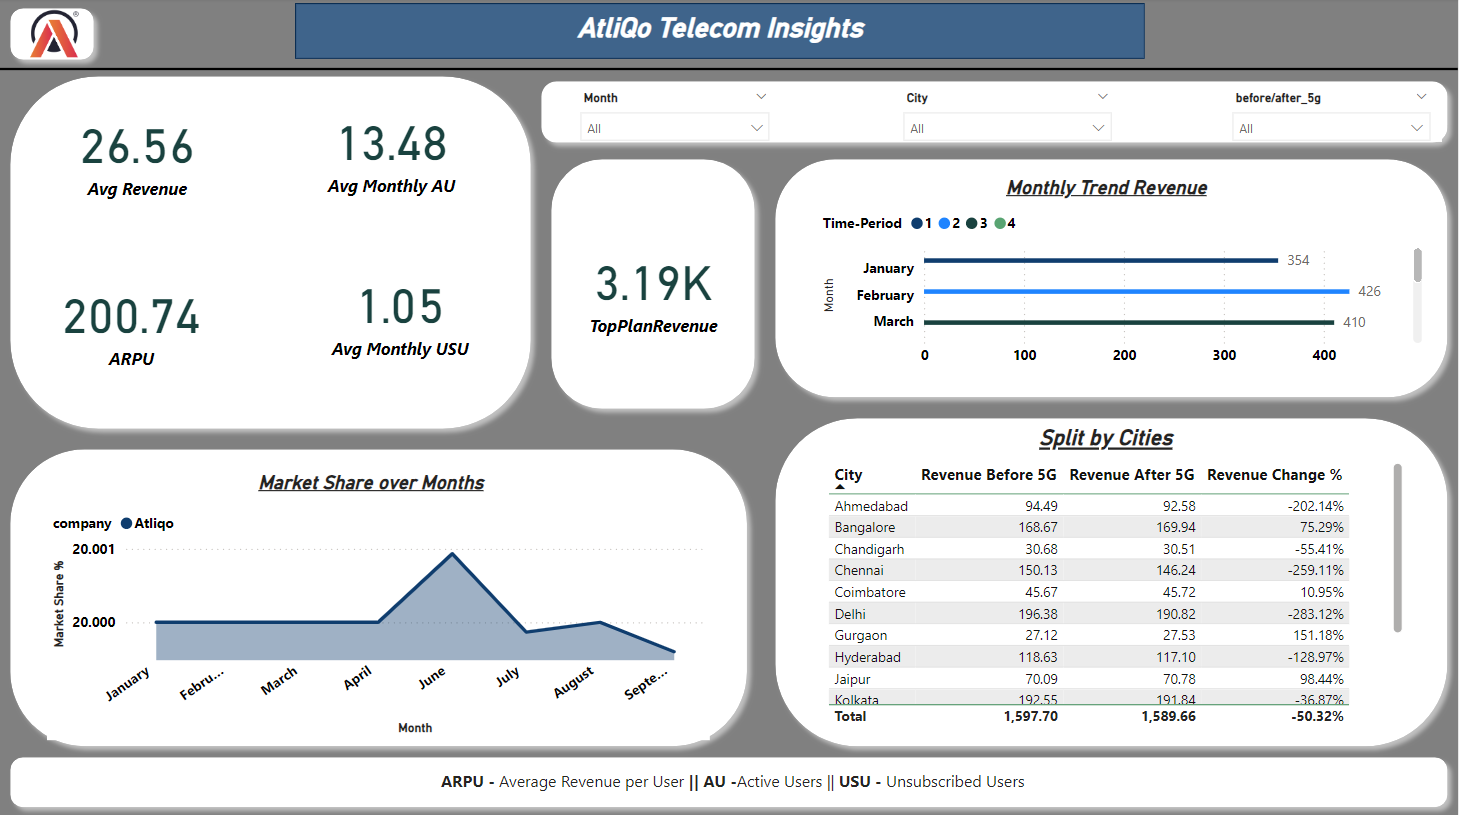

The page's visual inventory and layout, read from the dashboard file:
{"tool":"powerbi","page":{"name":"Page 1","canvas":[1280,720],"ordinal":0},"visuals":[{"type":"shape","box":[0,56.2,1280.2,12.3],"z":0},{"type":"shape","box":[259,4.4,746.3,49.2],"z":1000},{"type":"textbox","box":[324,7,616.4,43],"z":2000},{"type":"shape","box":[0,0,91.3,63.2],"z":3000},{"type":"image","box":[21.1,2.6,53.6,58],"z":4000},{"type":"shape","box":[466.2,63.8,813.8,72],"z":5000},{"type":"slicer","fields":{"Values":["dim_date.before/after_5g"]},"box":[1072.2,76,193.6,49.7],"z":6000},{"type":"slicer","fields":{"Values":["dim_cities.city_name"]},"box":[783.4,76,202.7,49.7],"z":7000},{"type":"slicer","fields":{"Values":["dim_date.month_name"]},"box":[499.6,76,186.5,49.7],"z":8000},{"type":"shape","box":[0,59.7,475,327.5],"z":9000},{"type":"card","fields":{"Values":["Key-Metrics.Avg Revenue"]},"box":[62.8,86.1,114.5,99.3],"z":10000},{"type":"card","fields":{"Values":["Key-Metrics.Average Revenue Per User"]},"box":[41.6,242.2,148,85.1],"z":11000},{"type":"card","fields":{"Values":["Key-Metrics.Average of Monthly Active Users"]},"box":[274.6,85.1,137.8,95.3],"z":12000},{"type":"card","fields":{"Values":["Key-Metrics.Average of Monthly Unsubscribed Users"]},"box":[274.6,225,153,102.4],"z":13000},{"type":"shape","box":[671.9,359.8,608.1,306.1],"z":14000},{"type":"tableEx","fields":{"Values":["dim_cities.city_name","Key-Metrics.Revenue Before 5G","Key-Metrics.Revenue After 5G","Key-Metrics.Revenue Change %"]},"box":[721.6,403.4,514.8,241.2],"z":15000},{"type":"textbox","box":[870.6,369.9,201.7,33.4],"z":16000},{"type":"shape","box":[671.9,132.8,608.1,227],"z":17000},{"type":"clusteredBarChart","title":"Monthly ","fields":{"Category":["dim_date.date.Variation.Date Hierarchy.Month"],"Series":["dim_date.time_period"],"Y":["Key-Metrics.Total Revenue"]},"box":[717.4,178.2,536.5,153.7],"z":18000},{"type":"textbox","box":[788.5,151,365.9,34.5],"z":19000},{"type":"shape","box":[0,387.1,664.8,278.7],"z":20000},{"type":"stackedAreaChart","fields":{"Category":["dim_date.date.Variation.Date Hierarchy.Month"],"Series":["fact_atliqo_metrics.company"],"Y":["Key-Metrics.Market Share %"]},"box":[41.6,441.9,581.7,209.8],"z":21000},{"type":"textbox","box":[152,410.5,347.6,31.4],"z":22000},{"type":"shape","box":[0,657.7,1280,61.8],"z":23000},{"type":"textbox","box":[21.3,672.9,1244.5,32.4],"z":24000},{"type":"shape","box":[475.3,132.8,196.6,237.1],"z":26000},{"type":"card","fields":{"Values":["Key-Metrics.TopPlanRevenue"]},"box":[497.6,180.4,152,152],"z":26500}]}

Visuals, with their boxes in screenshot pixels (x1, y1, x2, y2), scaled from the page's 1280x720 canvas onto the 1459x815 screenshot:
shape: [left=0, top=64, right=1458, bottom=78]
shape: [left=295, top=5, right=1146, bottom=61]
textbox: [left=369, top=8, right=1072, bottom=57]
shape: [left=0, top=0, right=104, bottom=72]
image: [left=24, top=3, right=85, bottom=69]
shape: [left=531, top=72, right=1458, bottom=154]
slicer - dim_date.before/after_5g: [left=1222, top=86, right=1443, bottom=142]
slicer - dim_cities.city_name: [left=893, top=86, right=1124, bottom=142]
slicer - dim_date.month_name: [left=569, top=86, right=782, bottom=142]
shape: [left=0, top=68, right=541, bottom=438]
card - Key-Metrics.Avg Revenue: [left=72, top=97, right=202, bottom=210]
card - Key-Metrics.Average Revenue Per User: [left=47, top=274, right=216, bottom=370]
card - Key-Metrics.Average of Monthly Active Users: [left=313, top=96, right=470, bottom=204]
card - Key-Metrics.Average of Monthly Unsubscribed Users: [left=313, top=255, right=487, bottom=371]
shape: [left=766, top=407, right=1458, bottom=754]
tableEx - dim_cities.city_name x Key-Metrics.Revenue Before 5G: [left=823, top=457, right=1409, bottom=730]
textbox: [left=992, top=419, right=1222, bottom=457]
shape: [left=766, top=150, right=1458, bottom=407]
"Monthly " clusteredBarChart: [left=818, top=202, right=1429, bottom=376]
textbox: [left=899, top=171, right=1316, bottom=210]
shape: [left=0, top=438, right=758, bottom=754]
stackedAreaChart - dim_date.date.Variation.Date Hierarchy.Month x fact_atliqo_metrics.company: [left=47, top=500, right=710, bottom=738]
textbox: [left=173, top=465, right=569, bottom=500]
shape: [left=0, top=744, right=1458, bottom=814]
textbox: [left=24, top=762, right=1443, bottom=798]
shape: [left=542, top=150, right=766, bottom=419]
card - Key-Metrics.TopPlanRevenue: [left=567, top=204, right=740, bottom=376]
